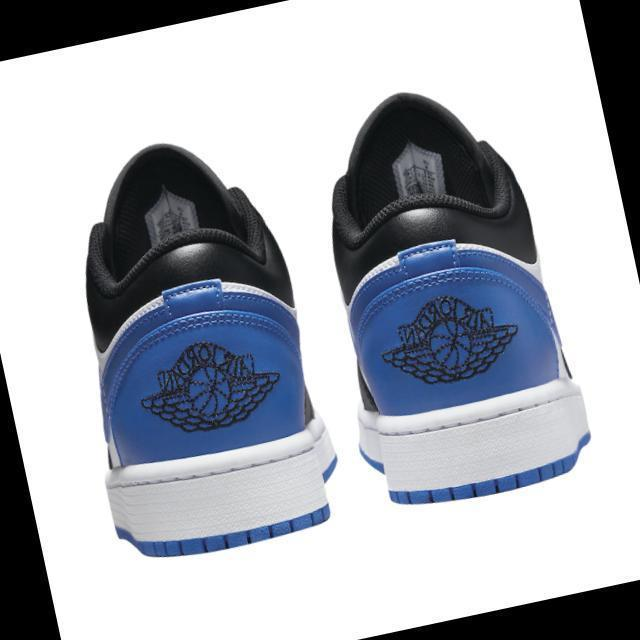nike original jordan 1: (33, 118, 351, 571), (284, 66, 600, 520)
